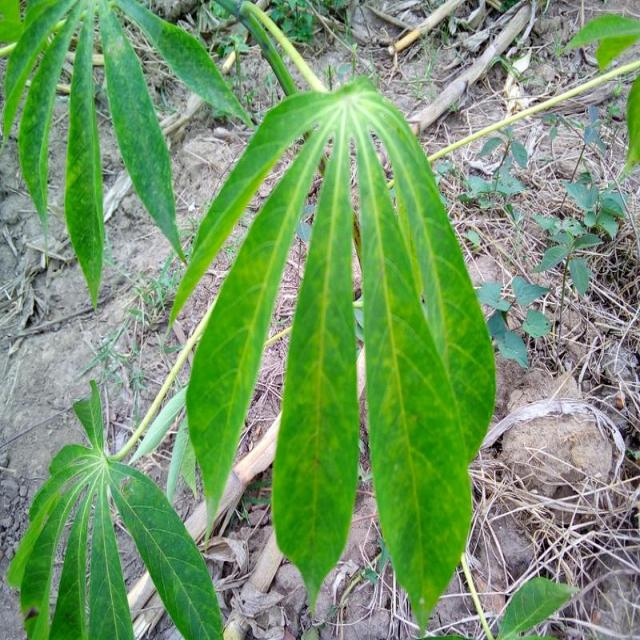cassava leaf: (171, 69, 497, 630), (6, 379, 224, 639)
